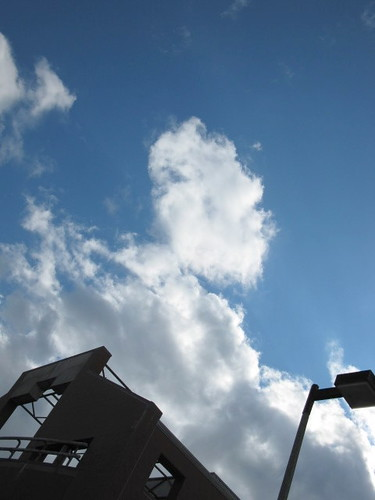building: (1, 351, 265, 500)
light pole: (269, 356, 375, 500)
sky: (6, 2, 371, 496)
